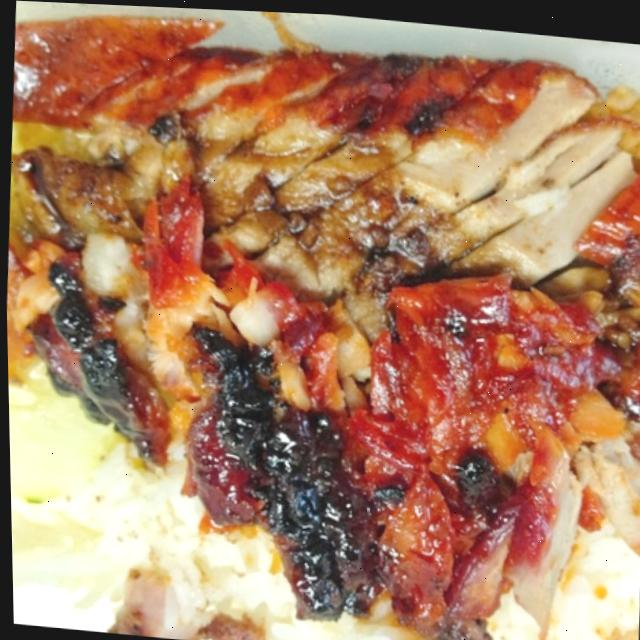烧串烤肉: (6, 7, 640, 640)
